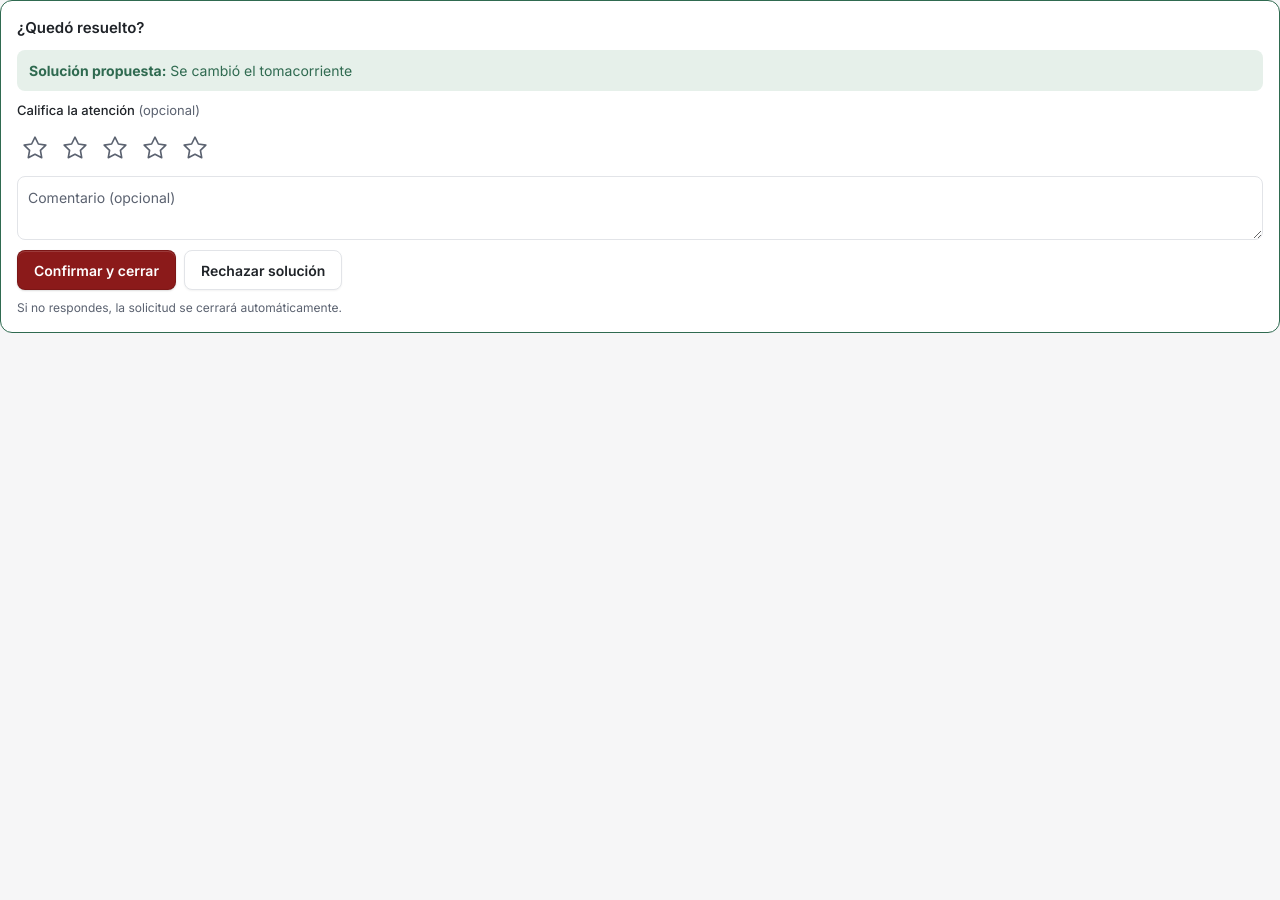
Scenario: SatisfactionPanel: solicitud resuelta › si la calificación falla, avisa que la solicitud sí se cerró
Click the radio button named "5 estrellas": (195, 148) [177, 130, 213, 166]
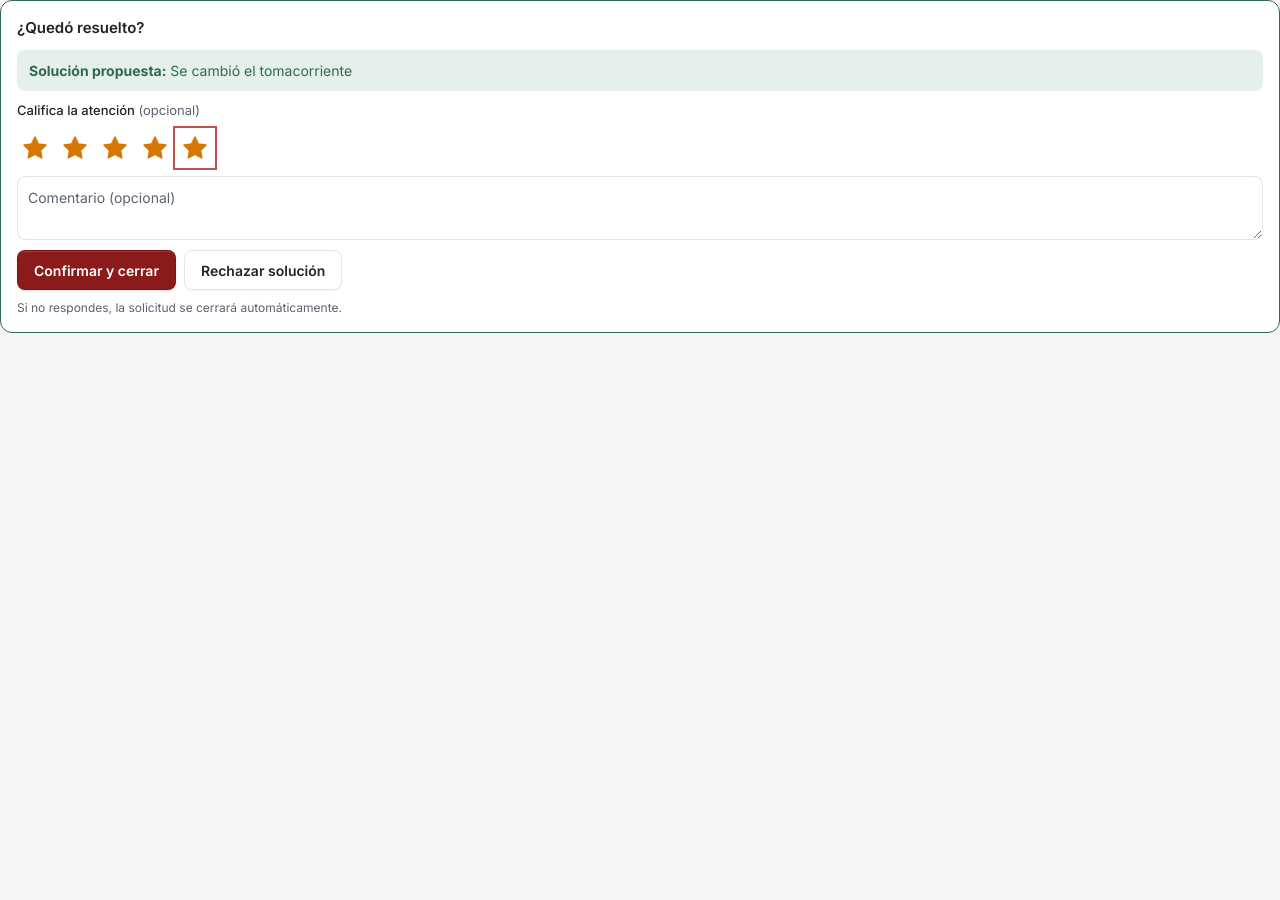
Click the button "Confirmar y cerrar": (96, 270) [17, 250, 176, 290]
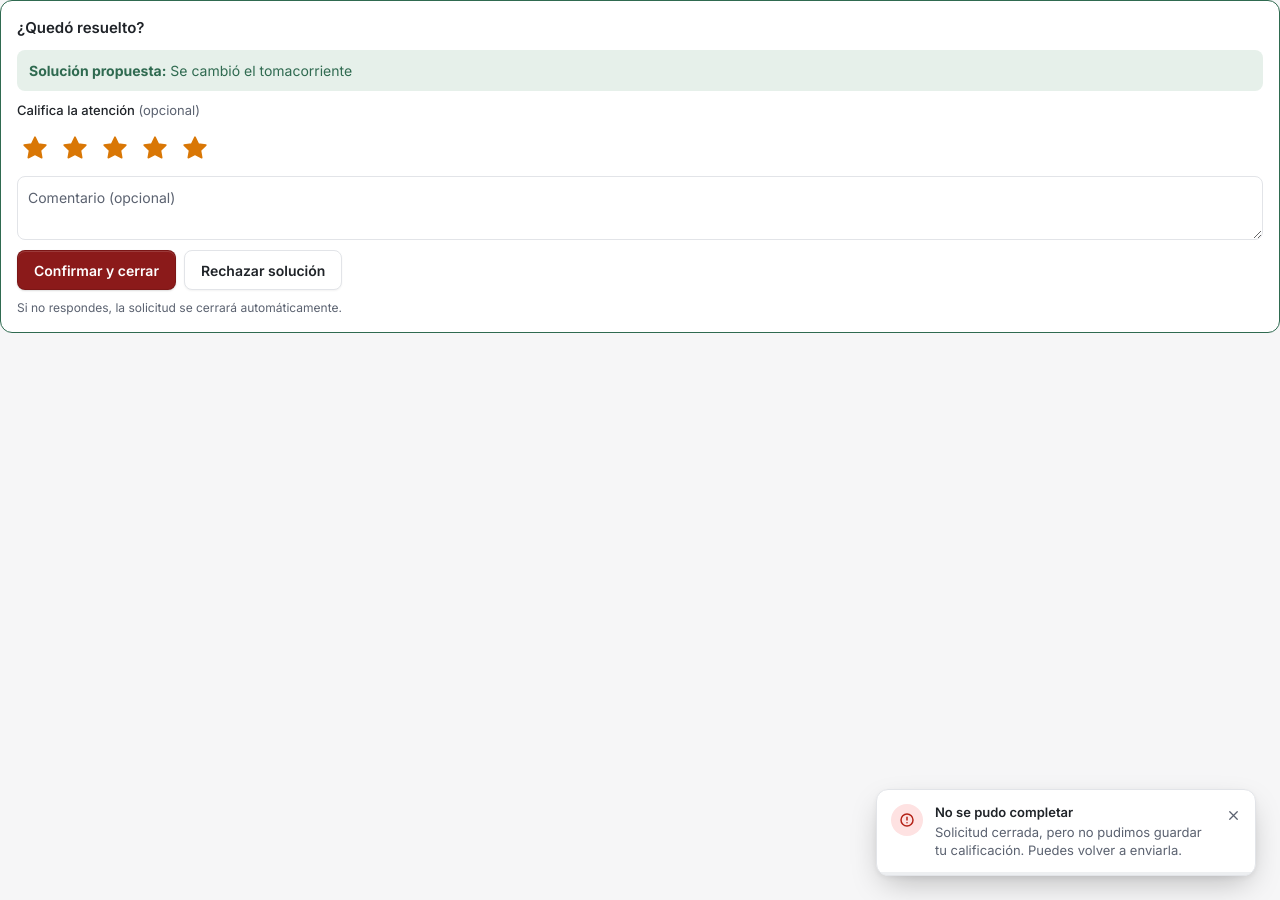
Now the text "Solicitud cerrada, pero no pudimos guardar tu calificación. Puedes volver a enviarla." is shown, box [935, 824, 1202, 858]
